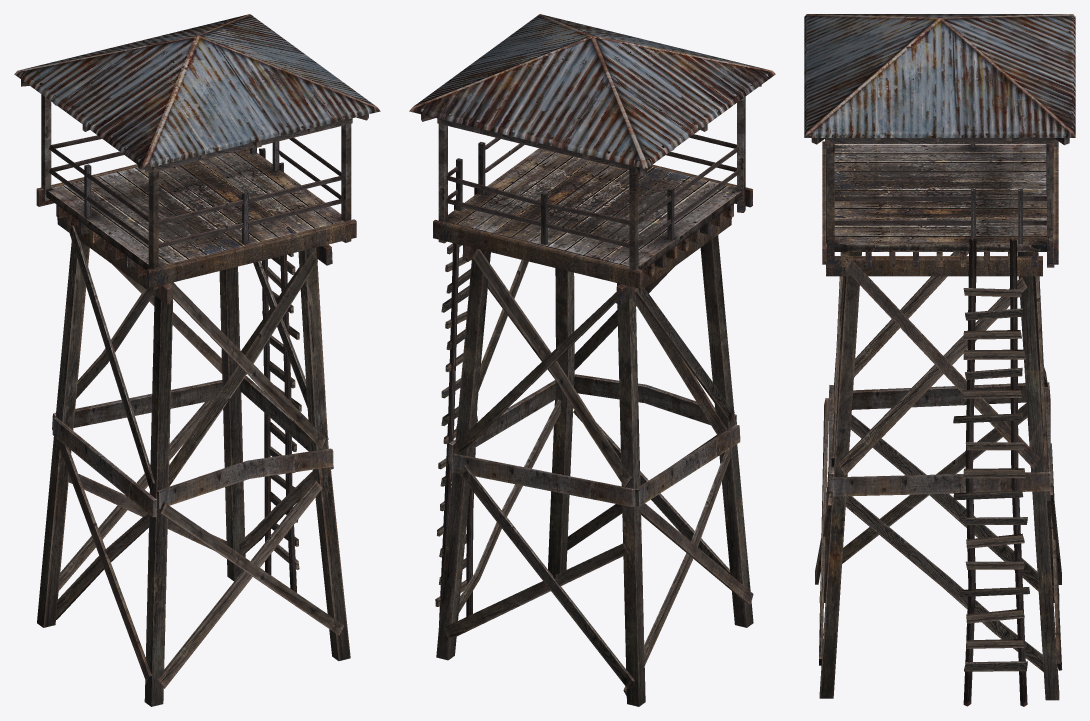
File: Tower.FBX
3 renders of one model, left to right at view 1: azimuth 30°, elevation 25°; view 2: azimuth 150°, elevation 25°; view 3: azimuth 270°, elevation 25°, orthographic. The views are drawn at different scales.
Visible parts, largest first — view 1: Tower; view 2: Tower; view 3: Tower.
Boxes of the visible parts, x1=… form: Tower: x1=14, y1=14, x2=380, y2=706; Tower: x1=409, y1=14, x2=775, y2=706; Tower: x1=804, y1=14, x2=1075, y2=706.
Bounding box in the file's own units: 34.6 × 84.24 × 32.79.
